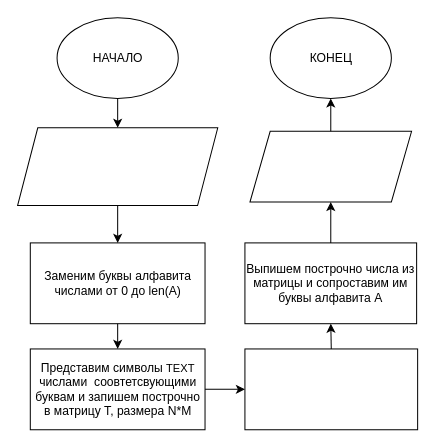
Some shapes in this 436 by 447 pixel diagram are drawn without their labels. Here are the shapes that lost their labels. From the top down, the box of each, then its label:
(17, 127, 218, 206): TEXT - ТЕКСТ K - КЛЮЧ МАТРИЦА (обратимая) A - АЛФАВИТ N - РАЗМЕР МАТРИЦЫ КЛЮЧА
(249, 130, 412, 202): ЗАШИФРОВАННЫЙ ТЕКСТ
(244, 348, 418, 430): S = (T * K) mod len(A)
